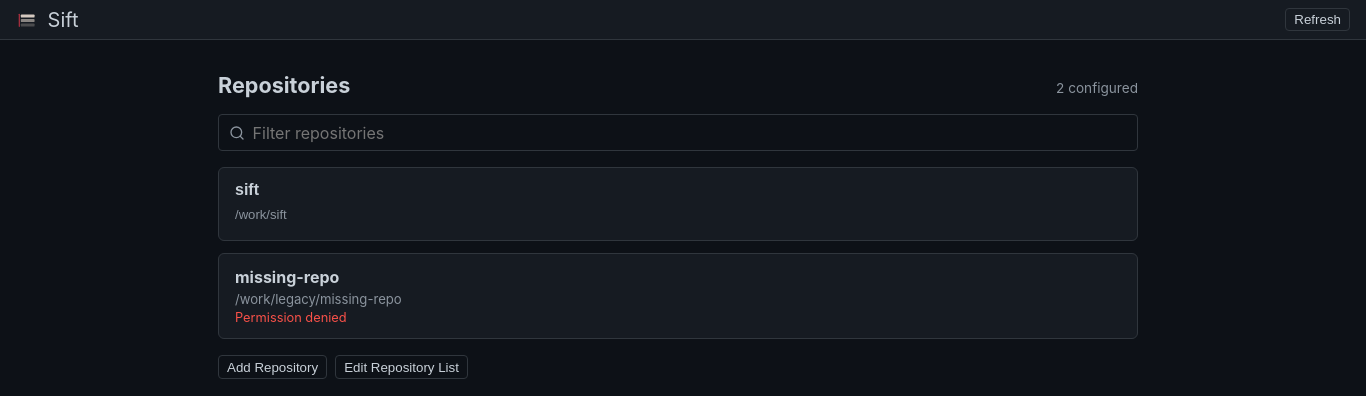
Test case: RepositorySelection › filters invalid repositories by name and path but not by reason
This screenshot has width=1366, height=396.
Type "legacy" into the field labelled "Filter repositories" at [690, 133], box [253,123,1127,143]
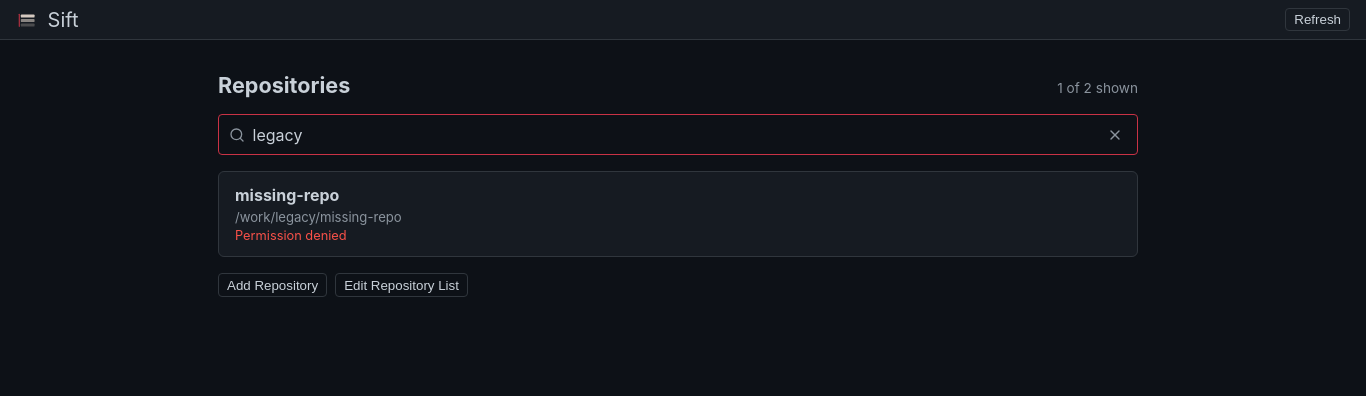
Expected: the text "missing-repo" is shown, [235,185,339,205]
Expected: the text "Permission denied" is shown, [235,228,347,243]
Clear the field named "Filter repositories" at [674, 135], box [253,125,1095,145]
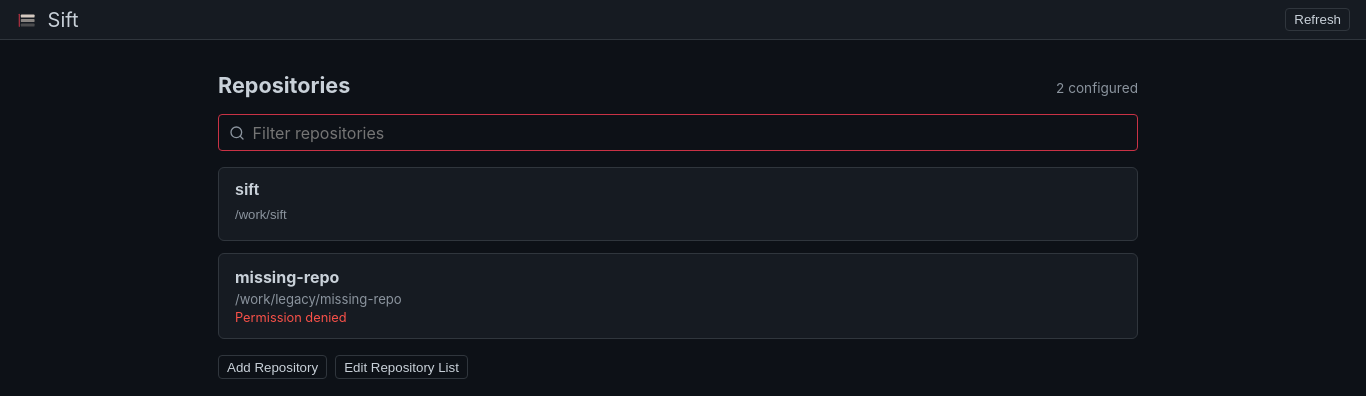
Type "permission" into the field labelled "Filter repositories" at [690, 133], box [253,123,1127,143]
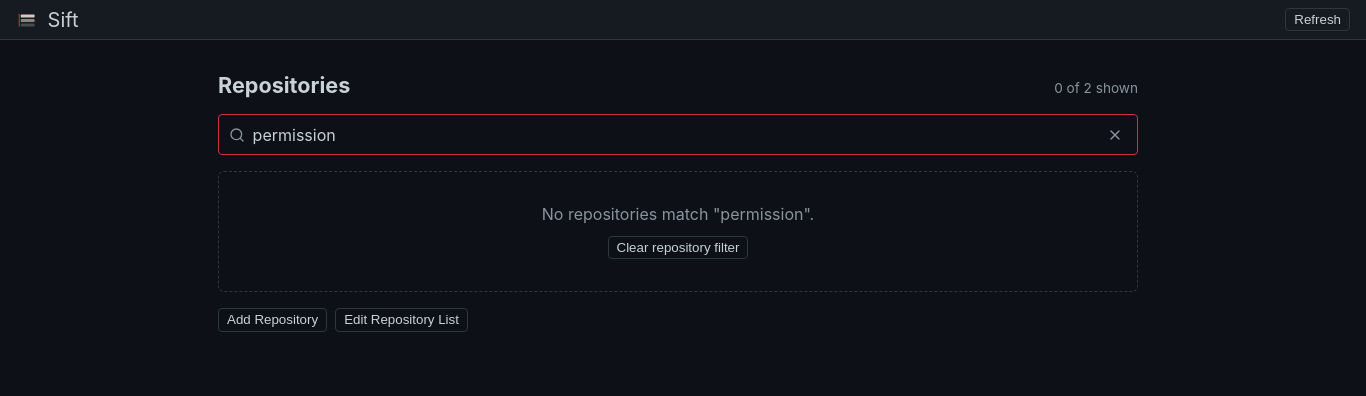
Now the text "missing-repo" is gone
Now the text "No repositories match \"permission\"." is shown, box [542,204,814,224]
